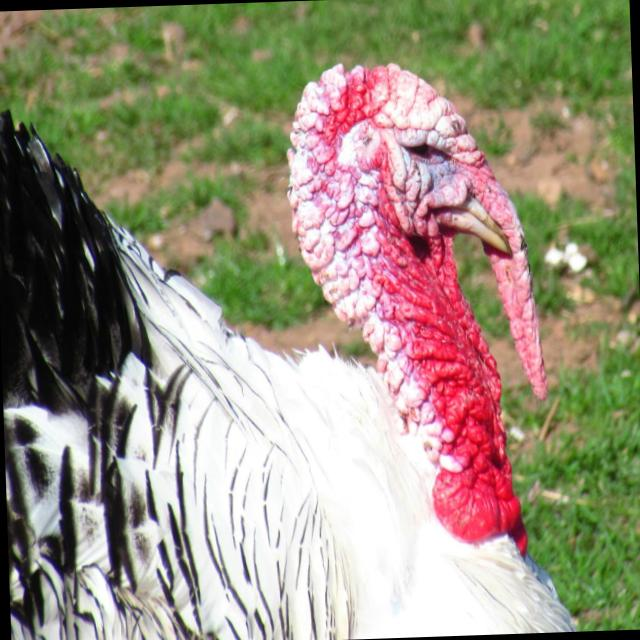turkey: (110, 38, 592, 614)
